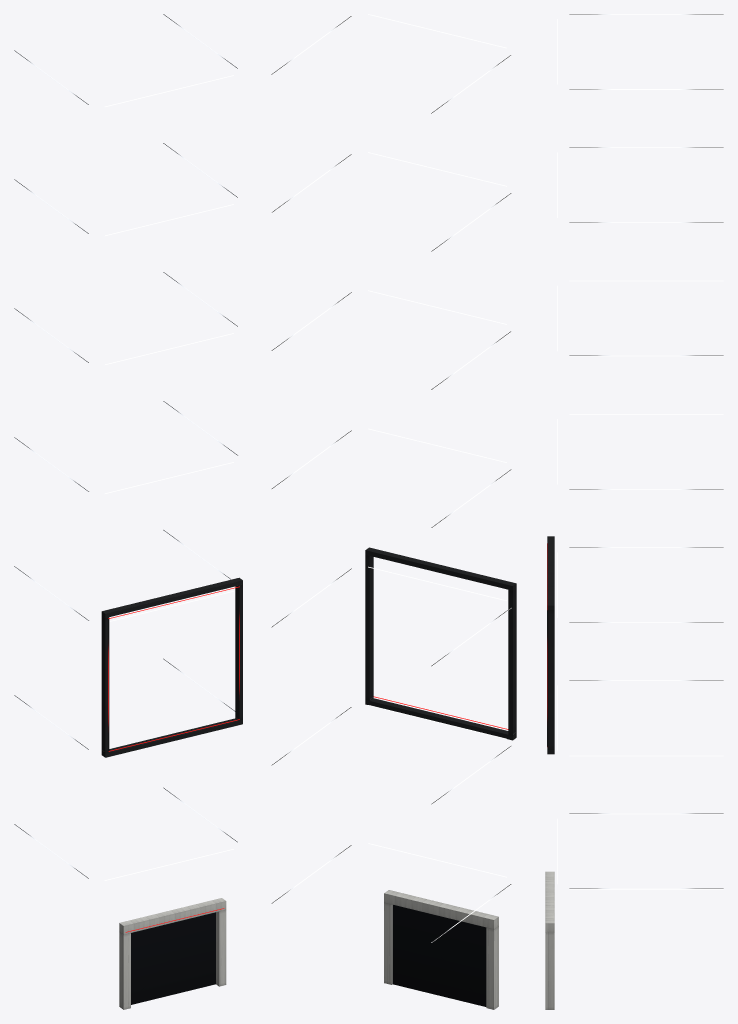
File: SM_INFD_TowerBaseDetail.fbx
The picture shows the model from 3 angles, left to right: view 1: azimuth 30°, elevation 25°; view 2: azimuth 150°, elevation 25°; view 3: azimuth 270°, elevation 25°; orthographic projection. The views are drawn at different scales.
Visible parts, largest first — view 1: SM_INFD_TowerBaseDetail_LOD0; view 2: SM_INFD_TowerBaseDetail_LOD0; view 3: SM_INFD_TowerBaseDetail_LOD0.
Boxes of the visible parts, left/top/right/bottom form: SM_INFD_TowerBaseDetail_LOD0: left=14, top=14, right=242, bottom=1009; SM_INFD_TowerBaseDetail_LOD0: left=271, top=14, right=516, bottom=1009; SM_INFD_TowerBaseDetail_LOD0: left=545, top=14, right=723, bottom=1009.
Size of what is drawn, in the model's own units: 29.12 by 168 by 29.12.
